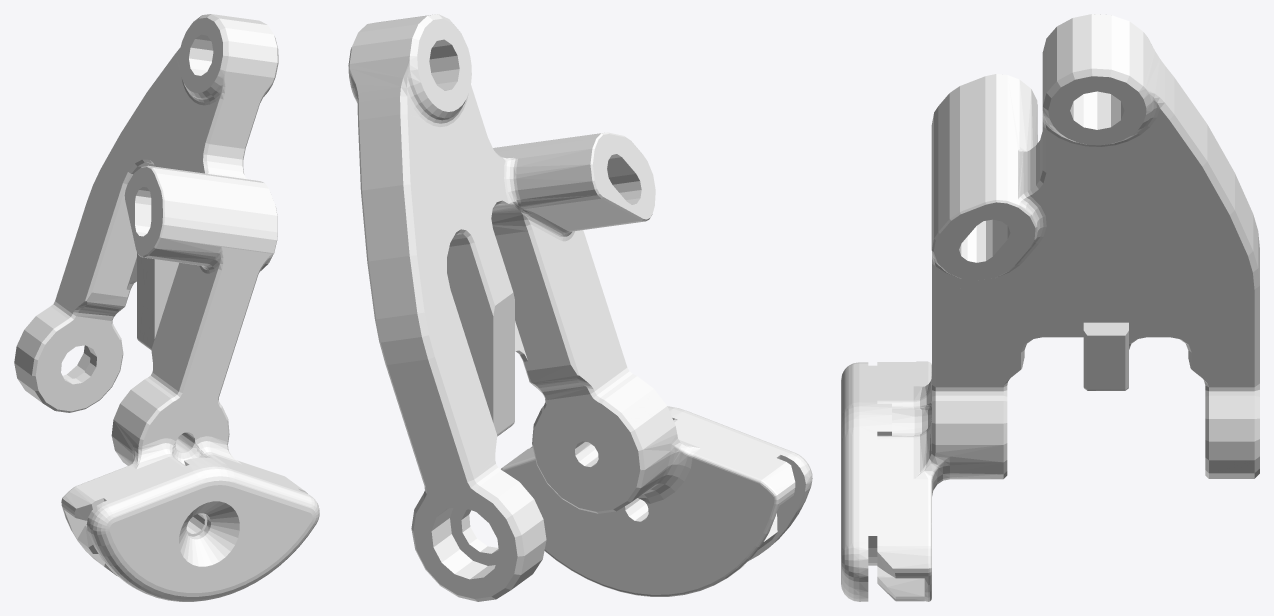
File: rh_thumb_metacarpals_base2_vis.obj
The picture shows the model from 3 angles, left to right: view 1: azimuth 30°, elevation 25°; view 2: azimuth 150°, elevation 25°; view 3: azimuth 270°, elevation 25°; orthographic projection. The views are drawn at different scales.
Parts seen in each view (by area): view 1: rh_thumb_metacarpals_base2; view 2: rh_thumb_metacarpals_base2; view 3: rh_thumb_metacarpals_base2.
Boxes of the visible parts, x1,y1,x2,y2 form: rh_thumb_metacarpals_base2: [14, 14, 319, 601]; rh_thumb_metacarpals_base2: [348, 14, 812, 601]; rh_thumb_metacarpals_base2: [841, 14, 1259, 601].
Bounding box in the file's own units: 0.0222 × 0.0383 × 0.023.
1 material, 1 textured.
